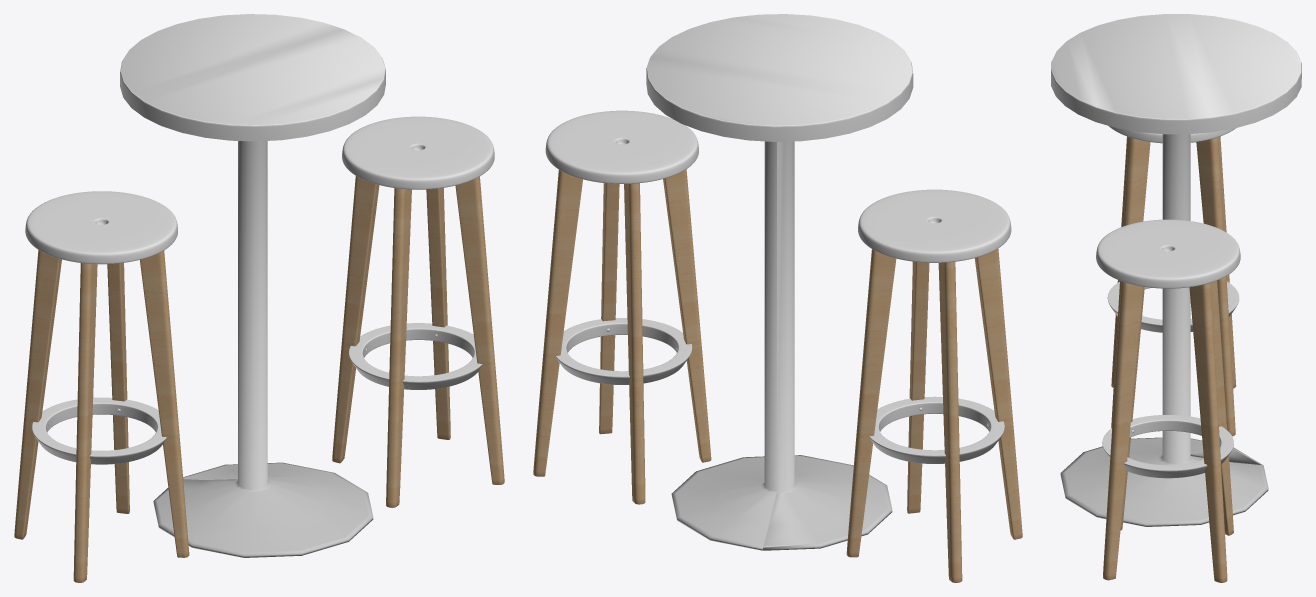
File: mesa_alta_glb.glb
The picture shows the model from 3 angles, left to right: view 1: azimuth 30°, elevation 25°; view 2: azimuth 150°, elevation 25°; view 3: azimuth 270°, elevation 25°; orthographic projection. The views are drawn at different scales.
Parts seen in each view (by area): view 1: Argüelles alta circular imagen 3 /Colores, taburete madera .001, taburete madera; view 2: Argüelles alta circular imagen 3 /Colores, taburete madera, taburete madera .001; view 3: Argüelles alta circular imagen 3 /Colores, taburete madera .001, taburete madera.
Boxes of the visible parts, bbox=[...] form: Argüelles alta circular imagen 3 /Colores: bbox=[120, 14, 385, 557]; taburete madera .001: bbox=[332, 116, 504, 507]; taburete madera: bbox=[14, 191, 189, 582]; Argüelles alta circular imagen 3 /Colores: bbox=[646, 14, 913, 550]; taburete madera: bbox=[846, 189, 1022, 582]; taburete madera .001: bbox=[533, 110, 711, 504]; Argüelles alta circular imagen 3 /Colores: bbox=[1051, 14, 1301, 526]; taburete madera .001: bbox=[1096, 219, 1240, 582]; taburete madera: bbox=[1107, 125, 1239, 436].
Bounding box in the file's own units: 1.11 × 1.04 × 0.5688.
Materials: 5 (1 with a texture image).
